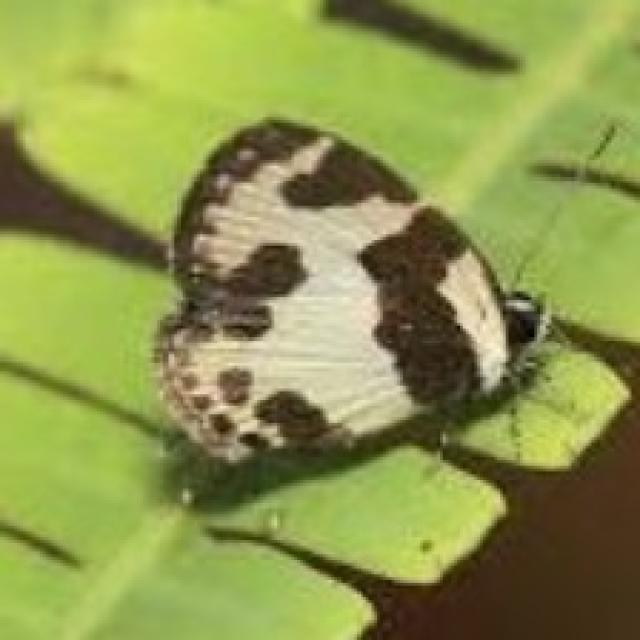butterfly: (146, 111, 554, 472)
